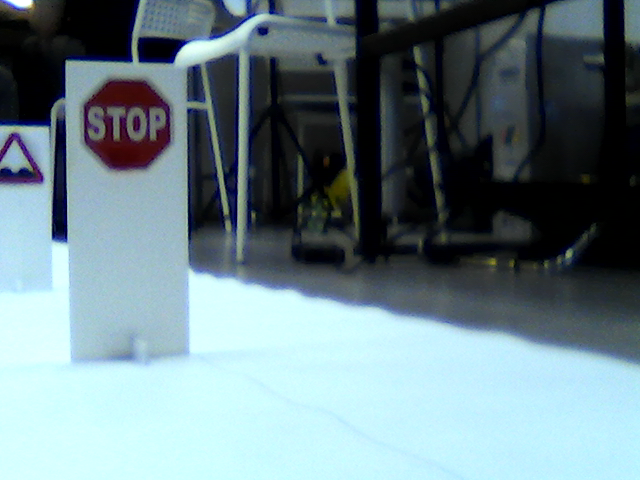Stop: (81, 81, 173, 172)
